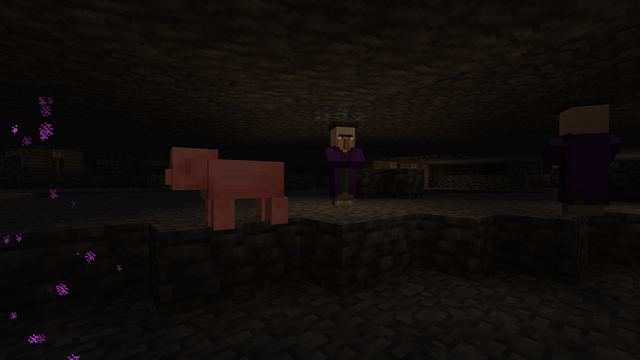cochons: (199, 156, 286, 232)
sorcieres: (556, 97, 607, 218), (325, 122, 359, 206)
